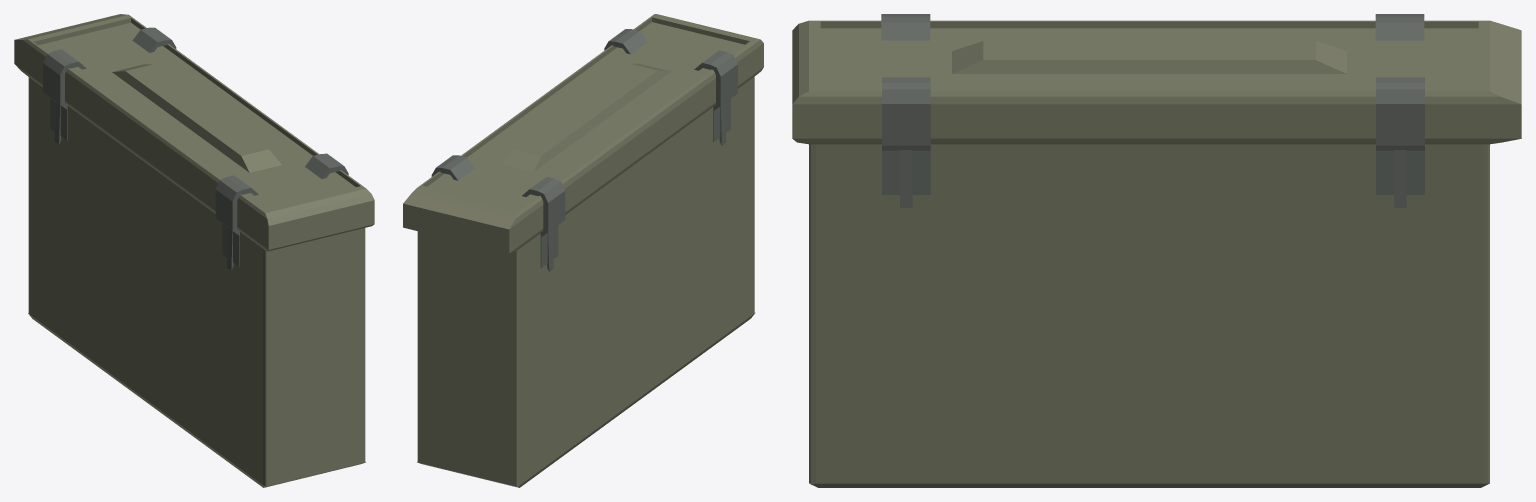
Rendered from ammo_9mm.fbx.
3 renders of one model, left to right at view 1: azimuth 30°, elevation 25°; view 2: azimuth 150°, elevation 25°; view 3: azimuth 270°, elevation 25°, orthographic. The views are drawn at different scales.
Visible parts, largest first — view 1: base-9mm; view 2: base-9mm; view 3: base-9mm.
Boxes of the visible parts, x1,y1,x2,y2 form: base-9mm: [14, 14, 374, 487]; base-9mm: [403, 14, 763, 487]; base-9mm: [792, 14, 1521, 487].
Size of the model in its own units: 6.01 by 13.94 by 22.81.
